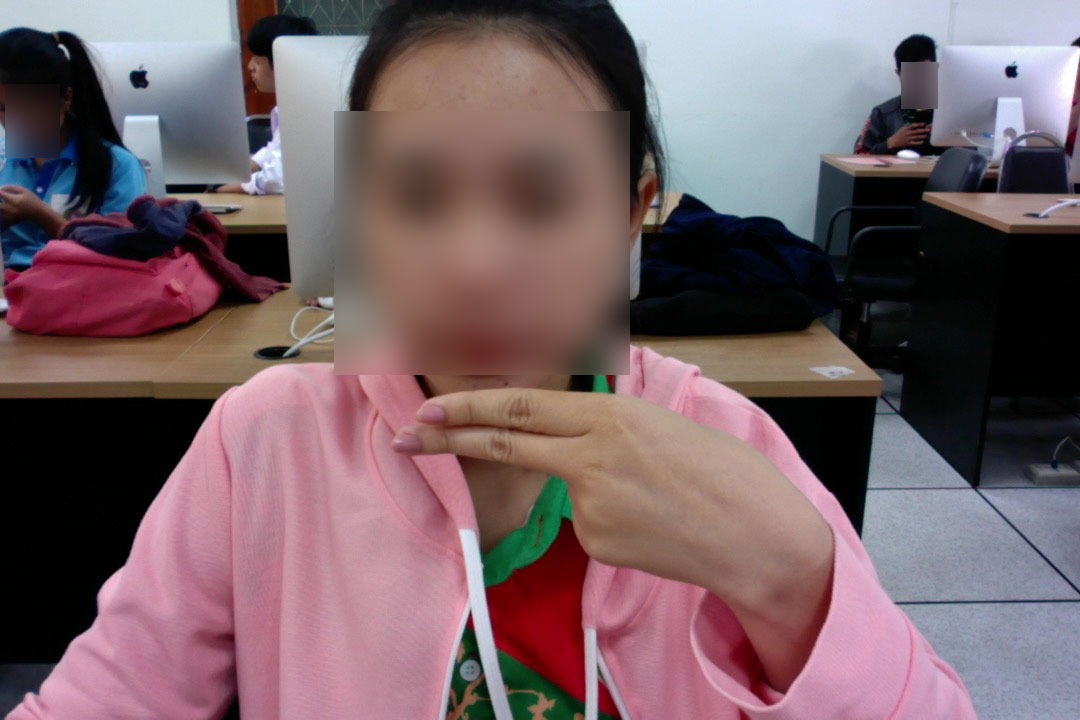hor: (384, 382, 803, 595)
